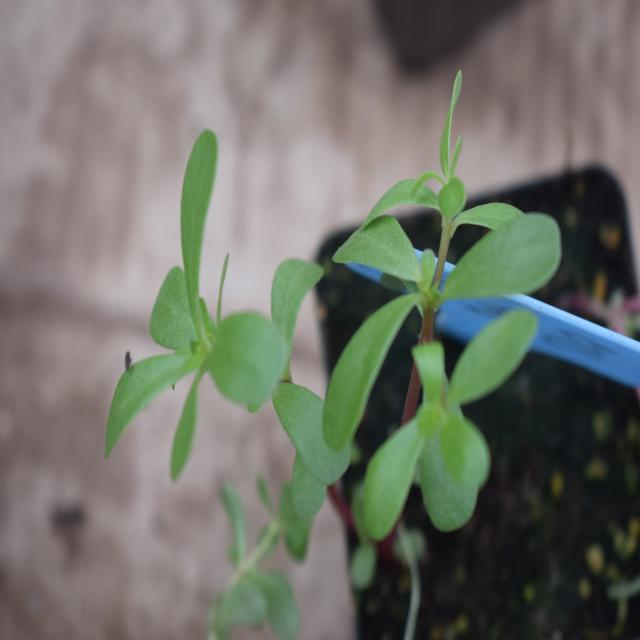purslane: (104, 94, 574, 546)
